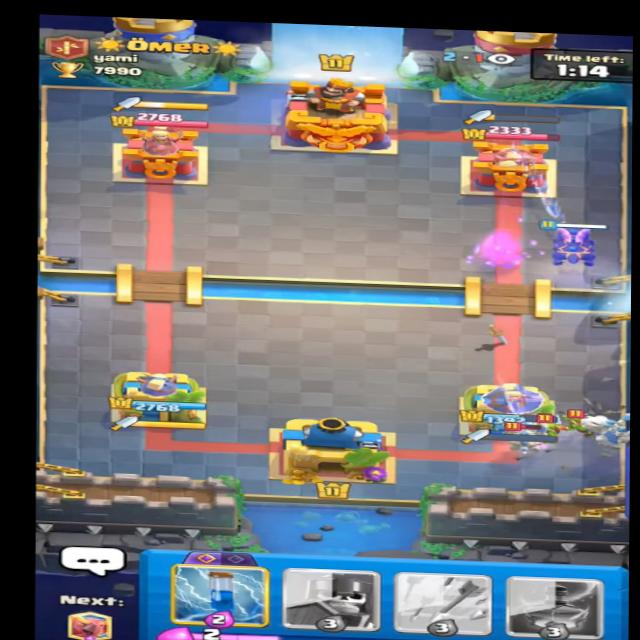goblin: (530, 408, 570, 438), (567, 407, 593, 434)
